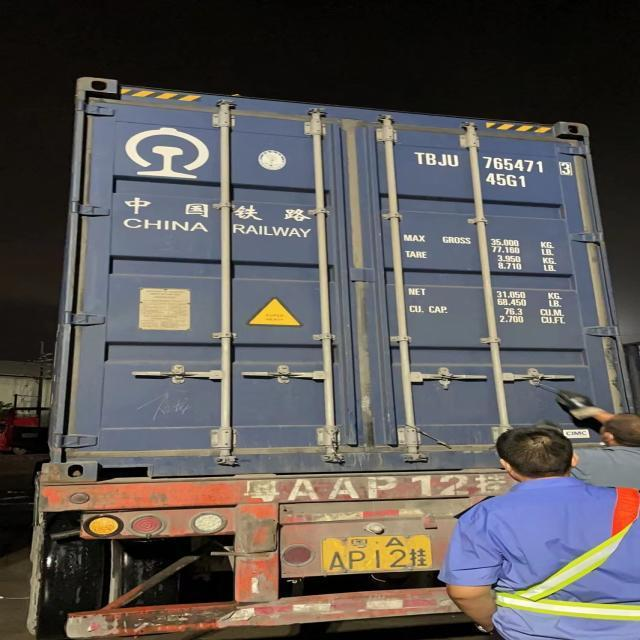ISO: (488, 174, 525, 190)
container_number: (419, 154, 575, 174)
